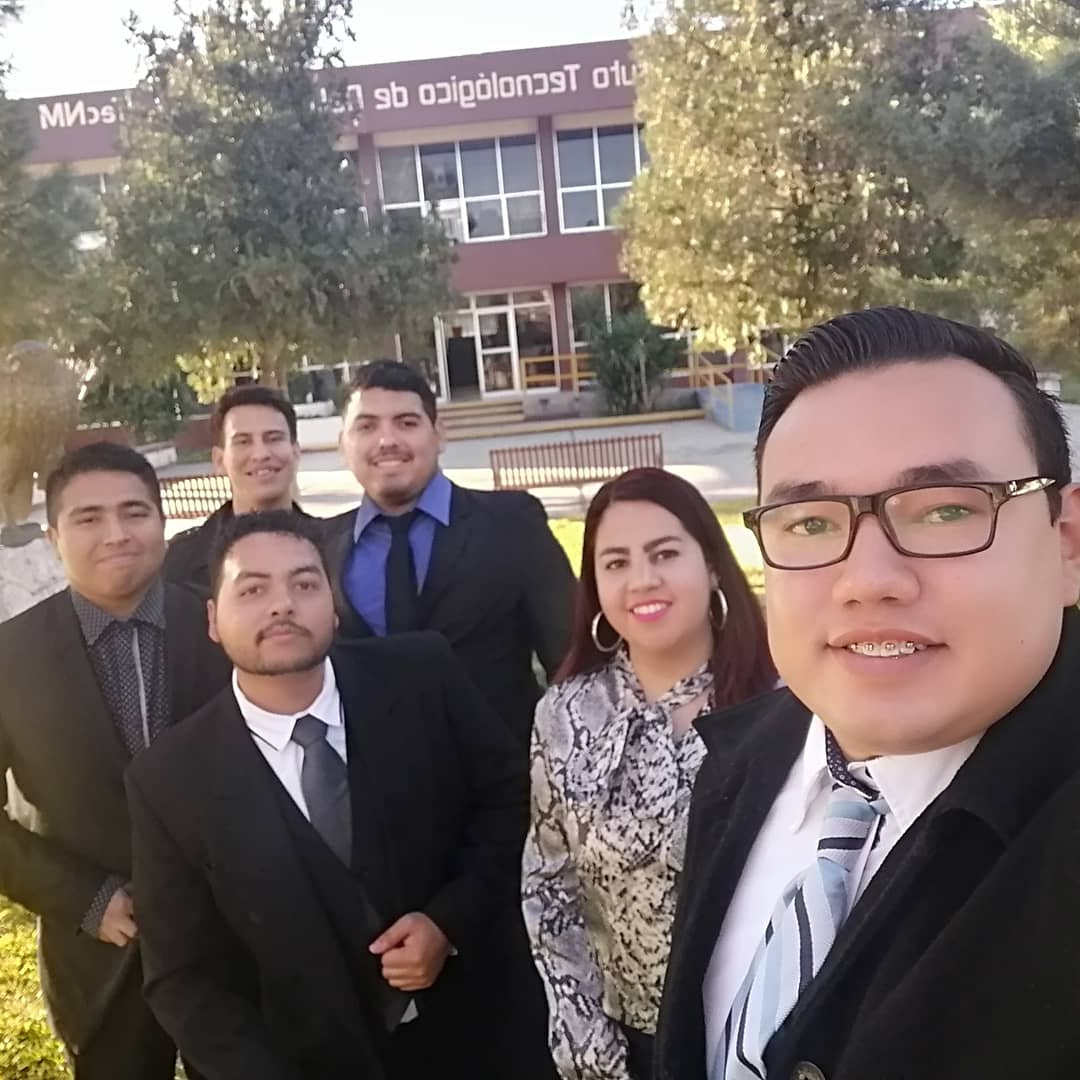Yoshi: (167, 506, 441, 892)
